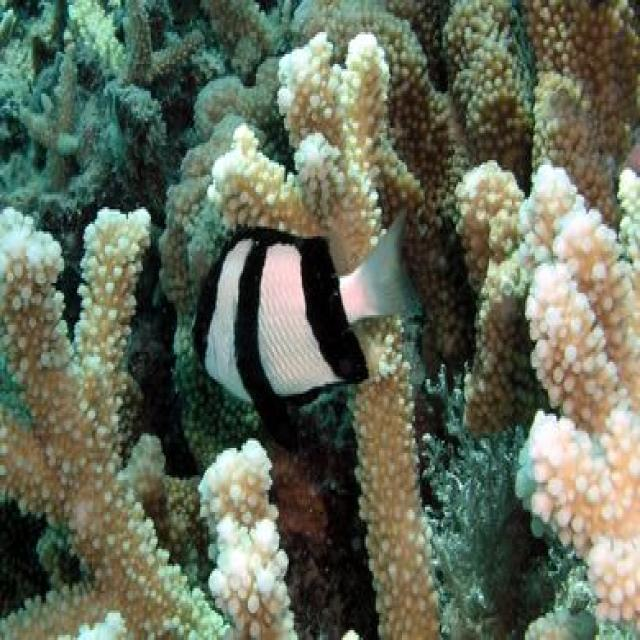ThreeStripedDamselfish: (194, 219, 420, 404)
